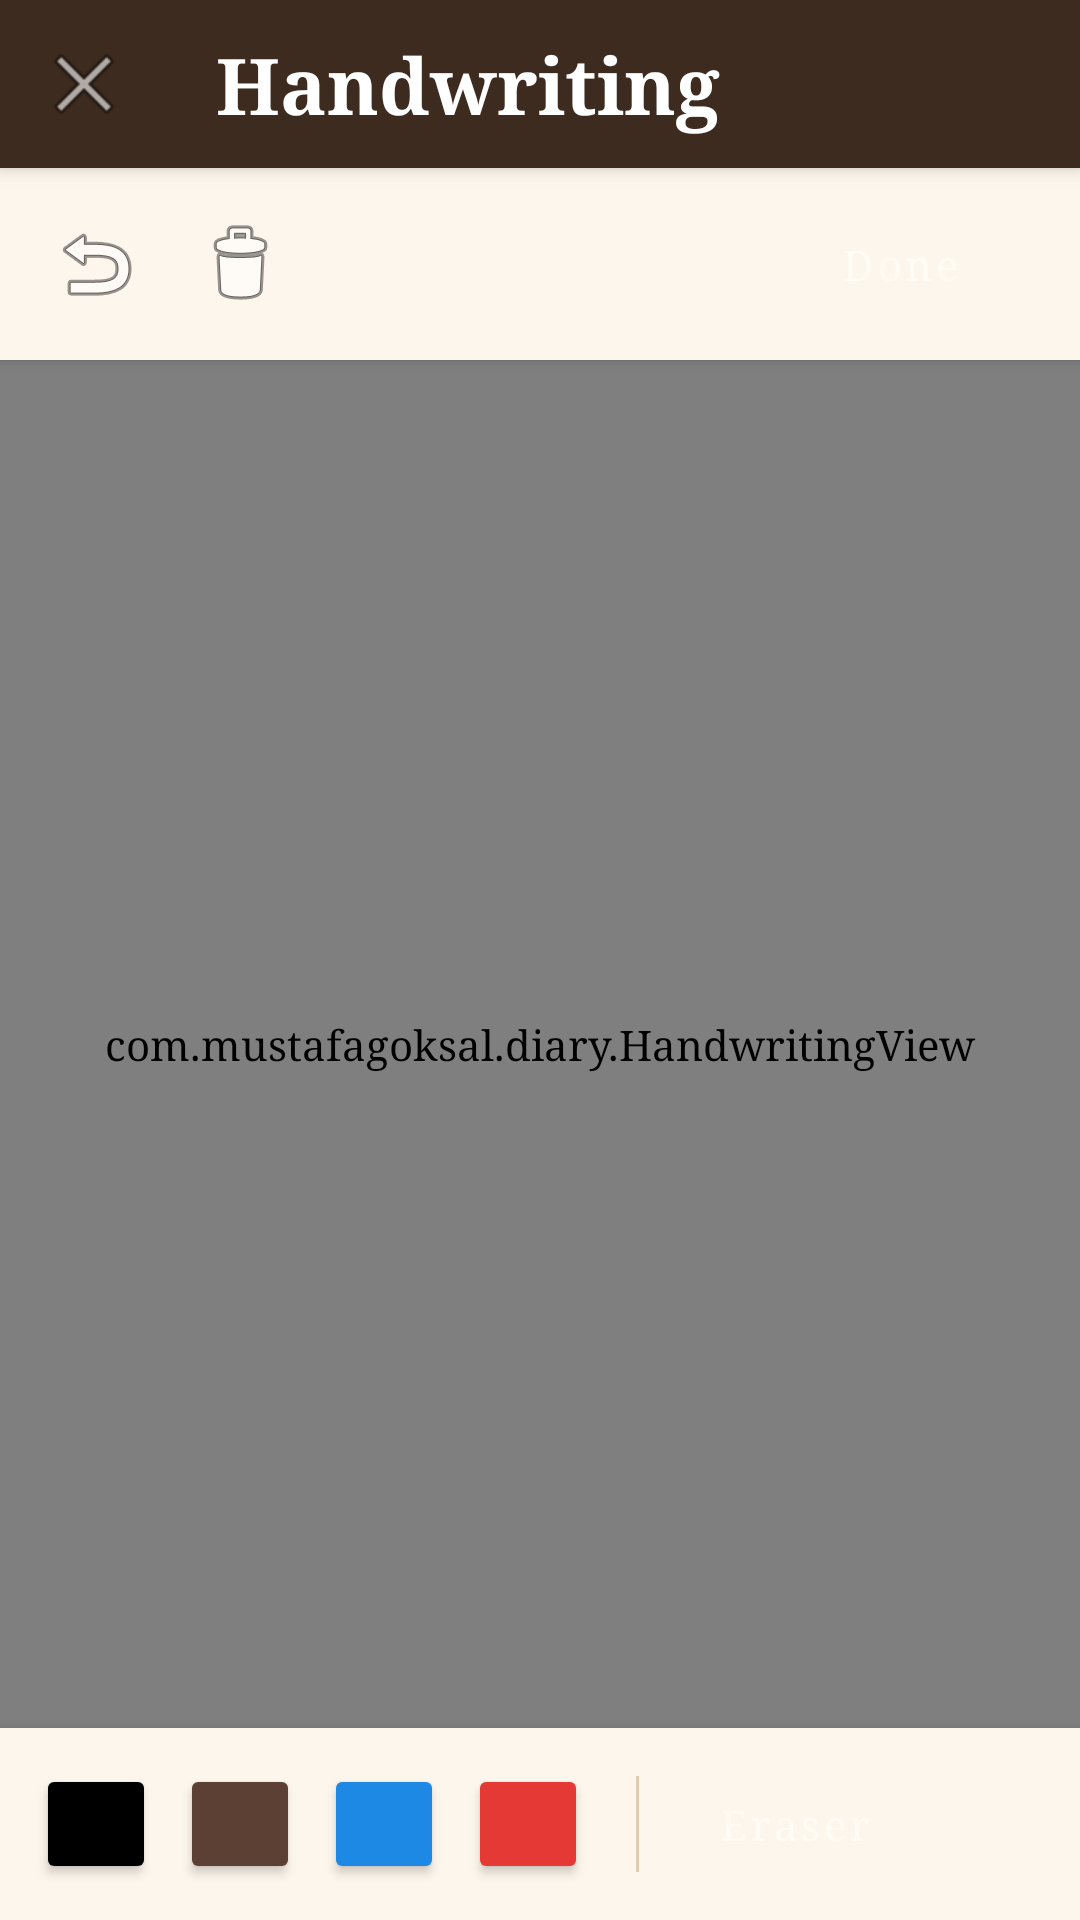

Screen size 1080w x 1920h. Icon name, then its center in pixels as (x=x, y=y):
Clear All: (x=240, y=262)
Undo: (x=97, y=264)
